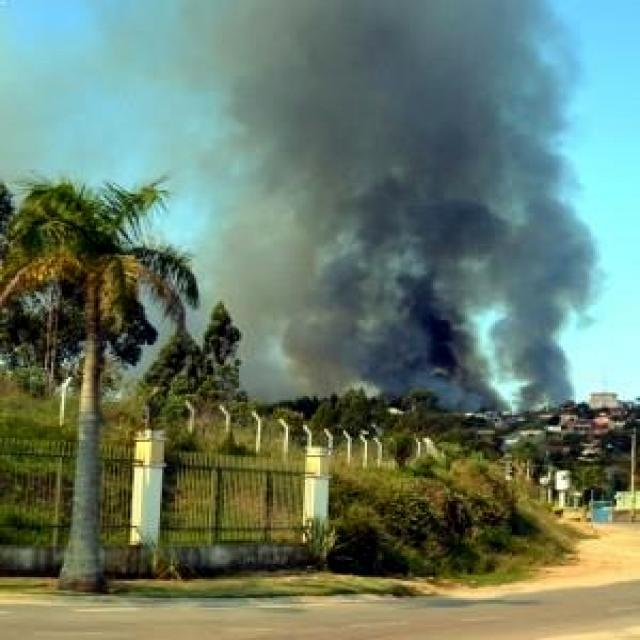Smoke: (136, 0, 594, 417)
